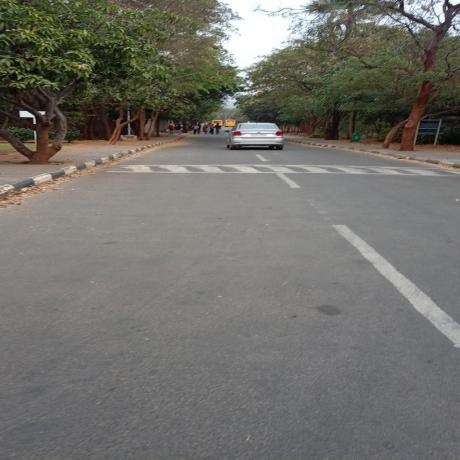Speed Bump: (97, 162, 453, 178)
